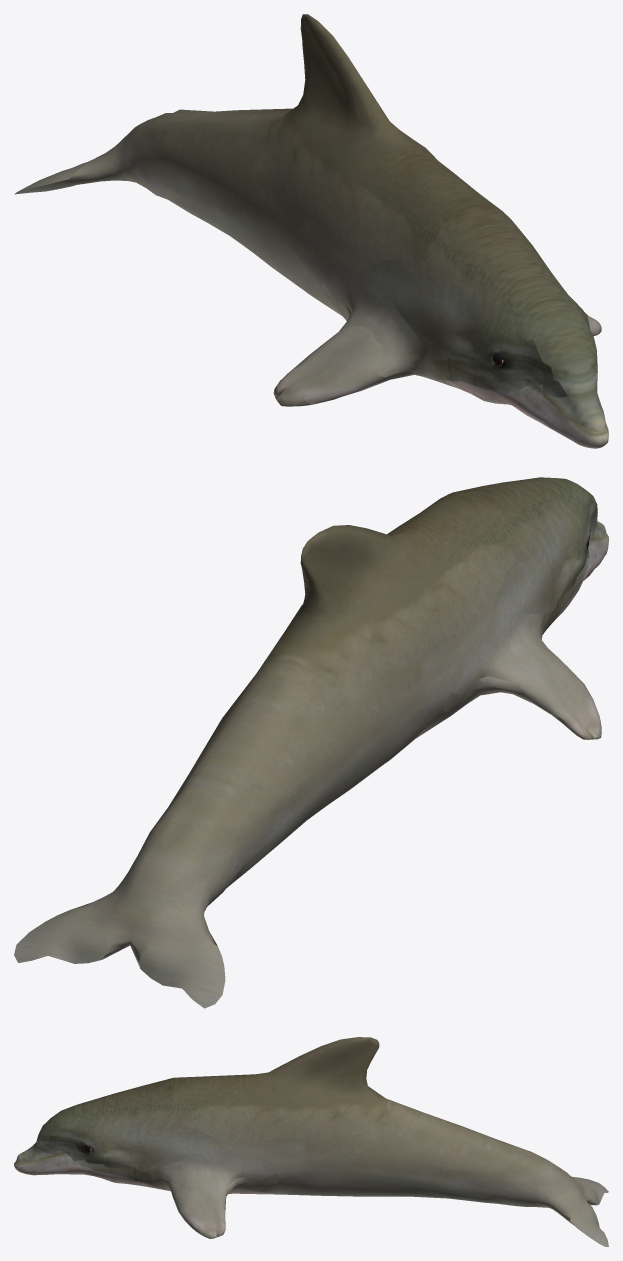
File: dolphin.obj
The picture shows the model from 3 angles, top to bottom: view 1: azimuth 30°, elevation 25°; view 2: azimuth 150°, elevation 25°; view 3: azimuth 270°, elevation 25°; orthographic projection. The views are drawn at different scales.
Visible parts, largest first — view 1: dolphin; view 2: dolphin; view 3: dolphin.
Boxes of the visible parts, x1=… form: dolphin: x1=14, y1=14, x2=608, y2=448; dolphin: x1=14, y1=477, x2=608, y2=1008; dolphin: x1=14, y1=1037, x2=608, y2=1246.
Size of the model in its own units: 0.8524 by 0.7685 by 2.27.
3 materials, 2 textured.
